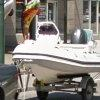Boat: (7, 18, 98, 89)
